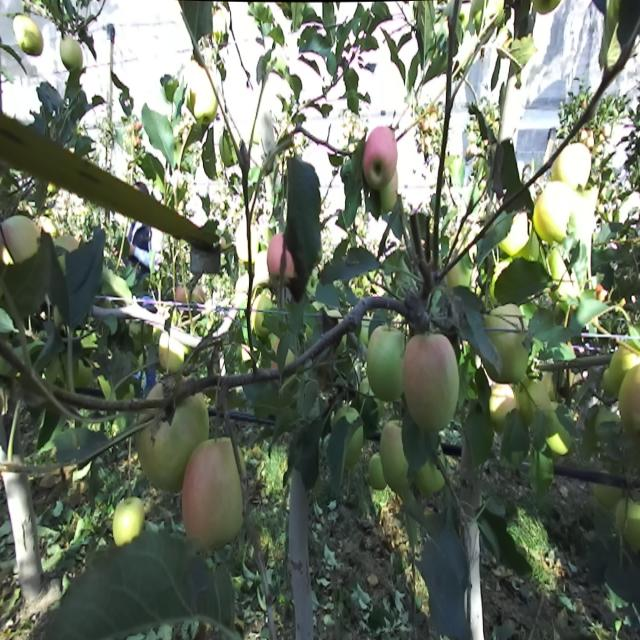apple: (140, 382, 210, 494), (185, 438, 246, 551), (405, 335, 460, 430), (482, 305, 529, 383), (535, 180, 578, 246), (368, 325, 404, 402), (382, 419, 412, 492), (552, 242, 585, 308), (363, 126, 398, 188), (1, 214, 42, 266), (113, 498, 145, 554), (412, 445, 447, 496), (552, 144, 592, 188), (333, 408, 362, 466), (190, 66, 220, 120), (546, 403, 576, 452), (12, 13, 44, 57), (611, 345, 640, 393), (502, 210, 532, 256), (518, 380, 550, 423), (616, 497, 640, 554), (619, 364, 640, 428), (595, 461, 624, 506), (268, 233, 295, 280), (490, 384, 517, 430), (158, 328, 185, 372), (52, 234, 79, 276), (596, 406, 622, 444), (253, 295, 276, 336), (60, 35, 82, 72), (370, 451, 386, 490), (383, 172, 397, 211), (219, 134, 236, 166)
